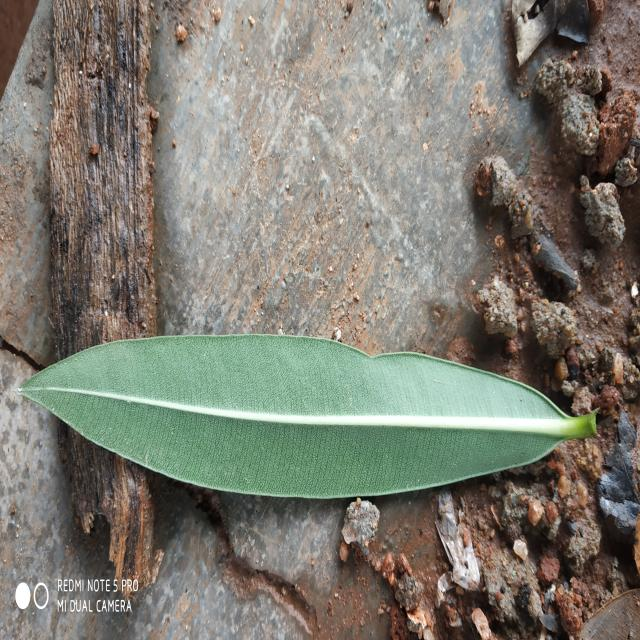ganigale: (19, 336, 596, 498)
